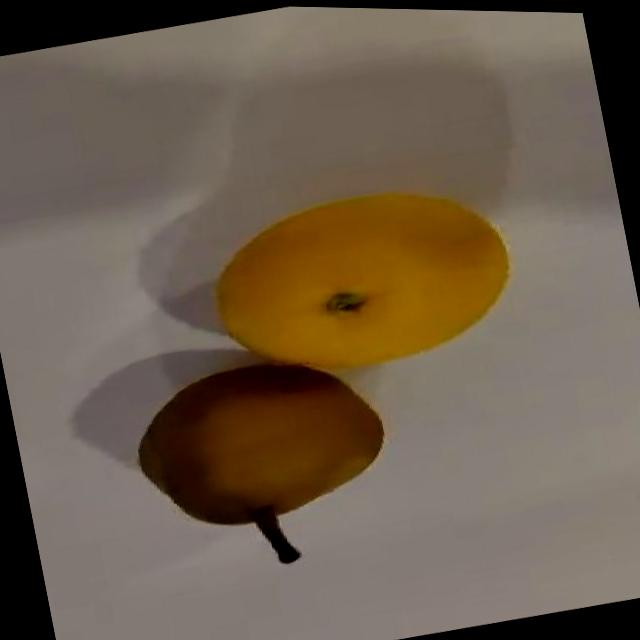Orange: (204, 167, 526, 395)
